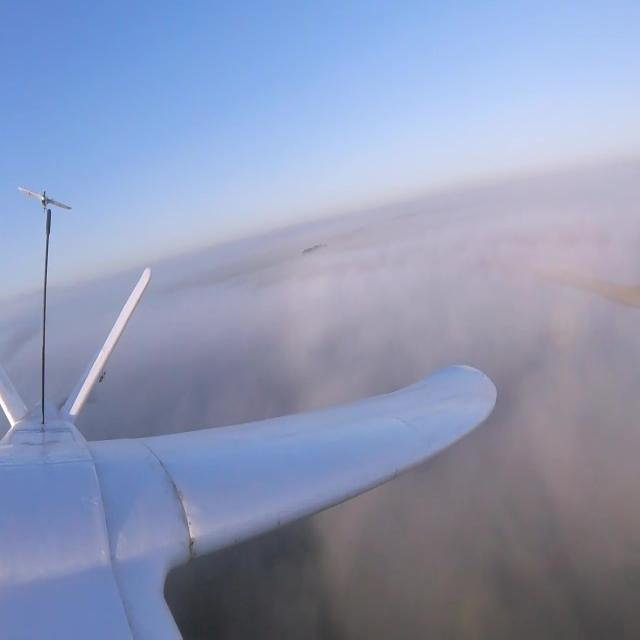iha: (16, 180, 72, 214)
